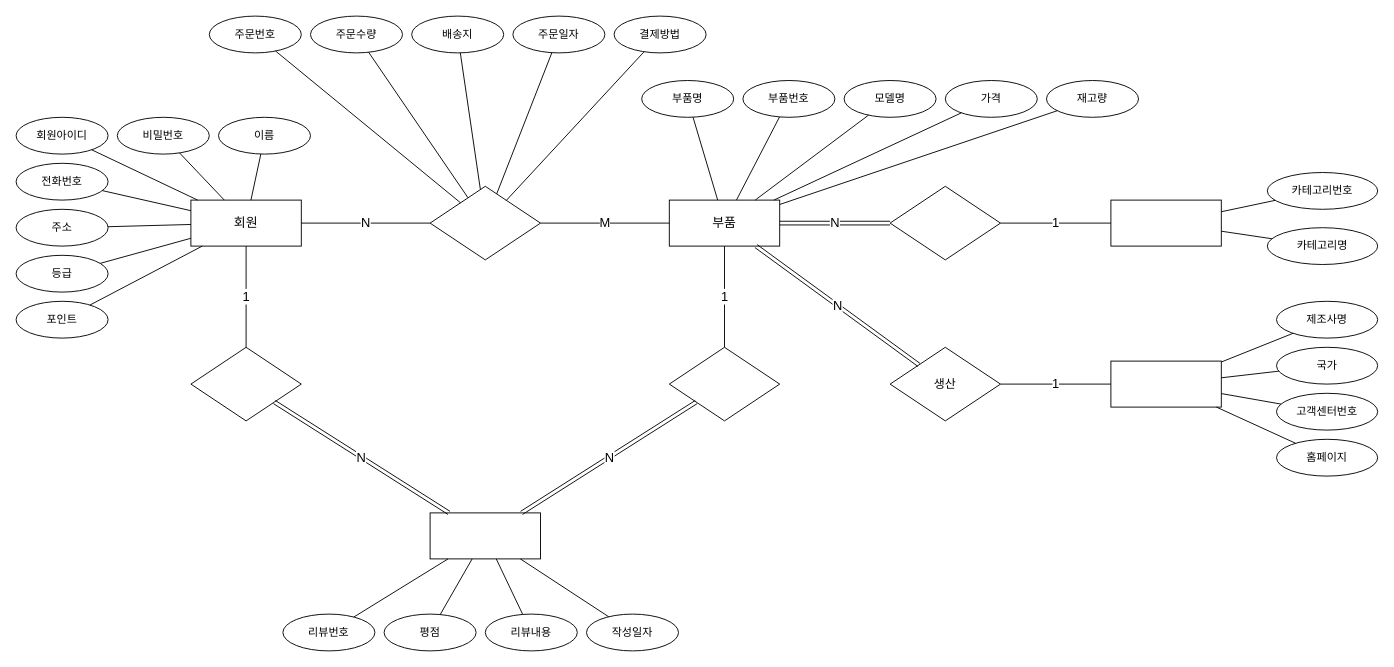
The diagram is 1394 pixels wide and 667 high, and some of its shapes have lost their labels. Here are the shapes that lost their labels. From the top down, the centre of each, then its label:
the point at 484,222: 주문
the point at 944,222: 소속
the point at 1165,222: 카테고리
the point at 245,383: 작성
the point at 724,383: 대상
the point at 1165,383: 제조사
the point at 484,535: 리뷰
